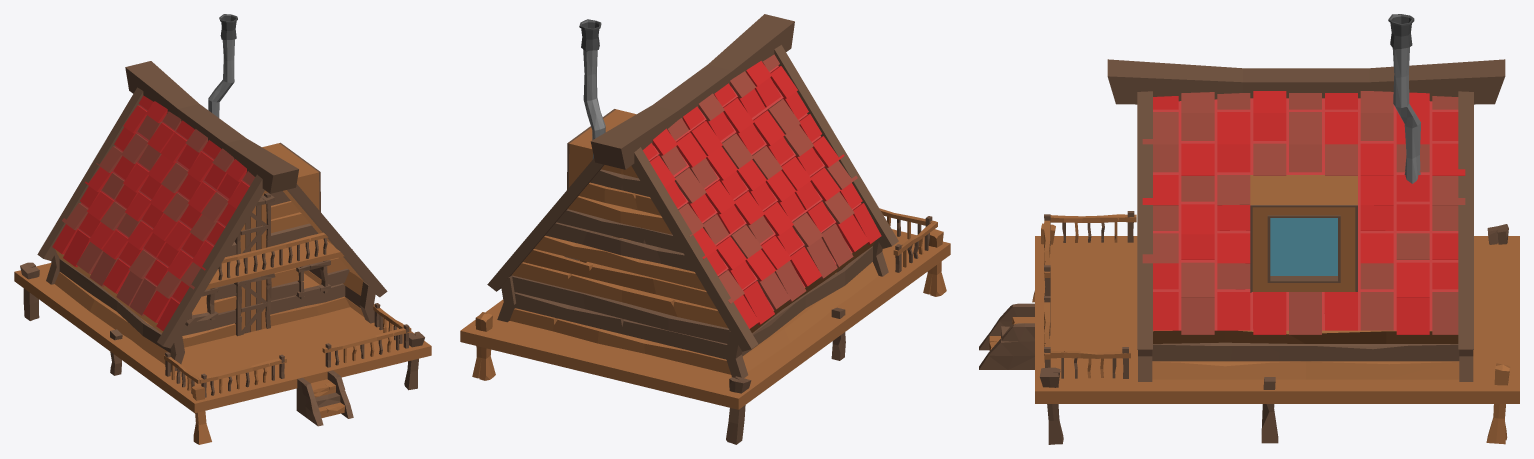
File: forest_cabin.glb
3 renders of one model, left to right at view 1: azimuth 30°, elevation 25°; view 2: azimuth 150°, elevation 25°; view 3: azimuth 270°, elevation 25°, orthographic. The views are drawn at different scales.
Visible parts, largest first — view 1: M_House; view 2: M_House; view 3: M_House.
Boxes of the visible parts, x1,y1,x2,y2 form: M_House: (14,14,431,444); M_House: (460,14,950,444); M_House: (979,14,1519,444).
Bounding box in the file's own units: 4.97 × 5.8 × 7.32.
Materials: 1 (1 with a texture image).
